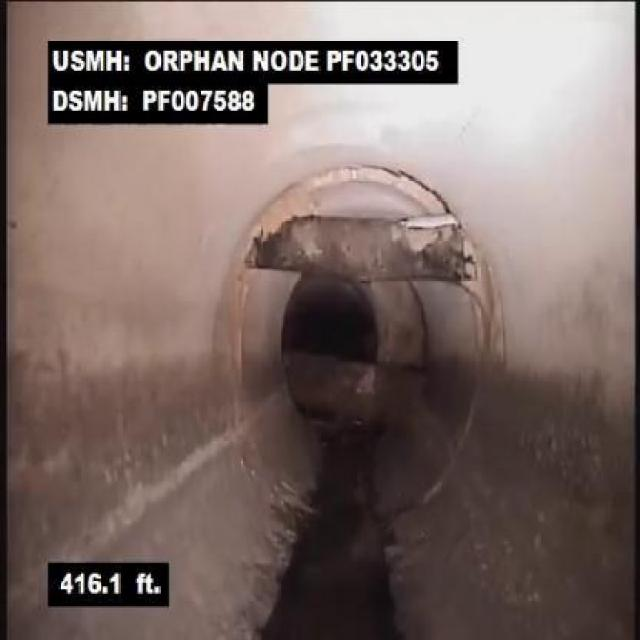Utility intrusion: (243, 203, 489, 286)
